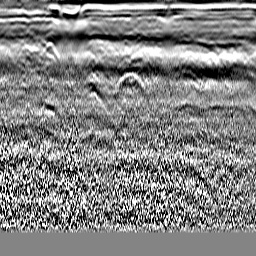cavity: (113, 69, 143, 90)
